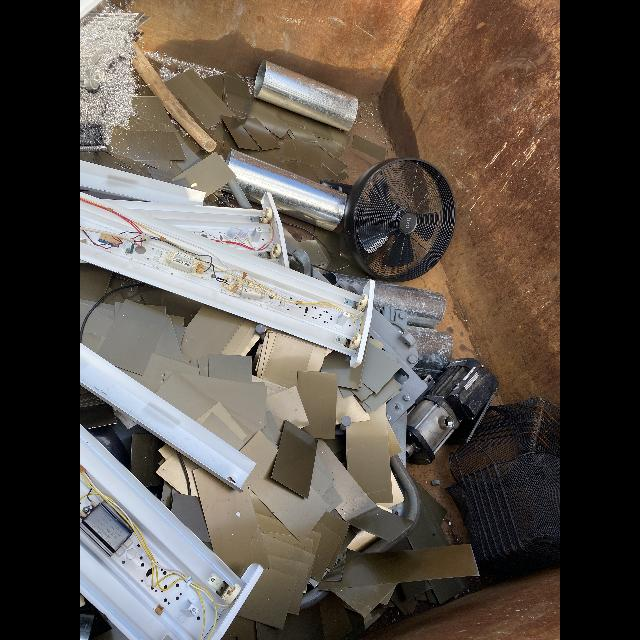Aluminium: (80, 10, 137, 150), (159, 67, 177, 81)
Ferrous Metal: (82, 284, 480, 640), (80, 161, 362, 314), (80, 229, 375, 369), (81, 425, 263, 640), (80, 69, 351, 206), (80, 342, 256, 493), (449, 398, 560, 570), (320, 157, 456, 282), (80, 529, 204, 640), (369, 306, 435, 468), (362, 455, 420, 553), (282, 224, 370, 279), (131, 434, 188, 507), (141, 224, 229, 270), (450, 395, 493, 442), (80, 201, 139, 234), (80, 385, 117, 429), (352, 134, 386, 161), (300, 586, 329, 609), (288, 248, 311, 276), (133, 222, 160, 238), (334, 281, 363, 295), (313, 267, 332, 285), (255, 324, 266, 343), (354, 319, 362, 334), (242, 239, 253, 248)
Galvanized Steel: (226, 149, 347, 231), (254, 60, 358, 130), (373, 280, 446, 328), (407, 325, 453, 371), (332, 272, 369, 288), (219, 184, 233, 194)
